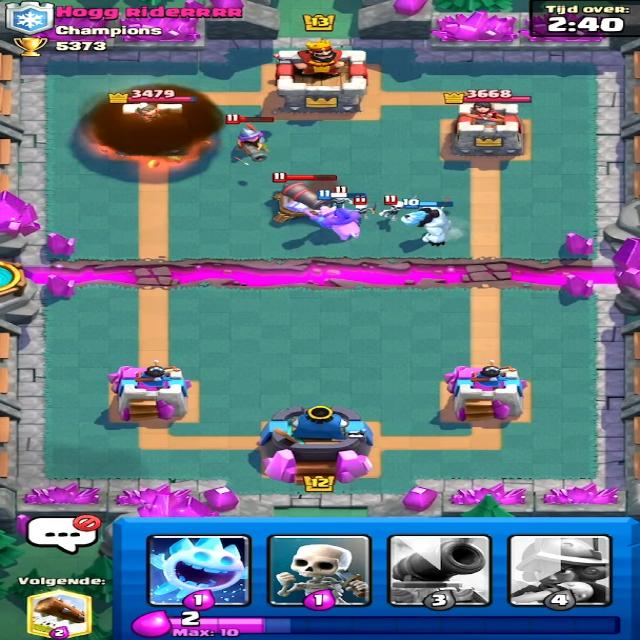Cannon_Card: (388, 536, 491, 605)
Enemy_Cannon_Troop: (264, 180, 336, 223)
Enemy_Musketeer_Troop: (228, 122, 274, 162)
Enemy_Skeleton_Troop: (379, 201, 411, 221)
Hog_Rider_Troop: (286, 200, 366, 242)
Ice_Golem_Troop: (396, 199, 456, 250)
Ice_Spirit_Card: (142, 532, 248, 606)
Musketeer_Card: (512, 536, 611, 605)
Skeleton_Card: (269, 537, 363, 606)
